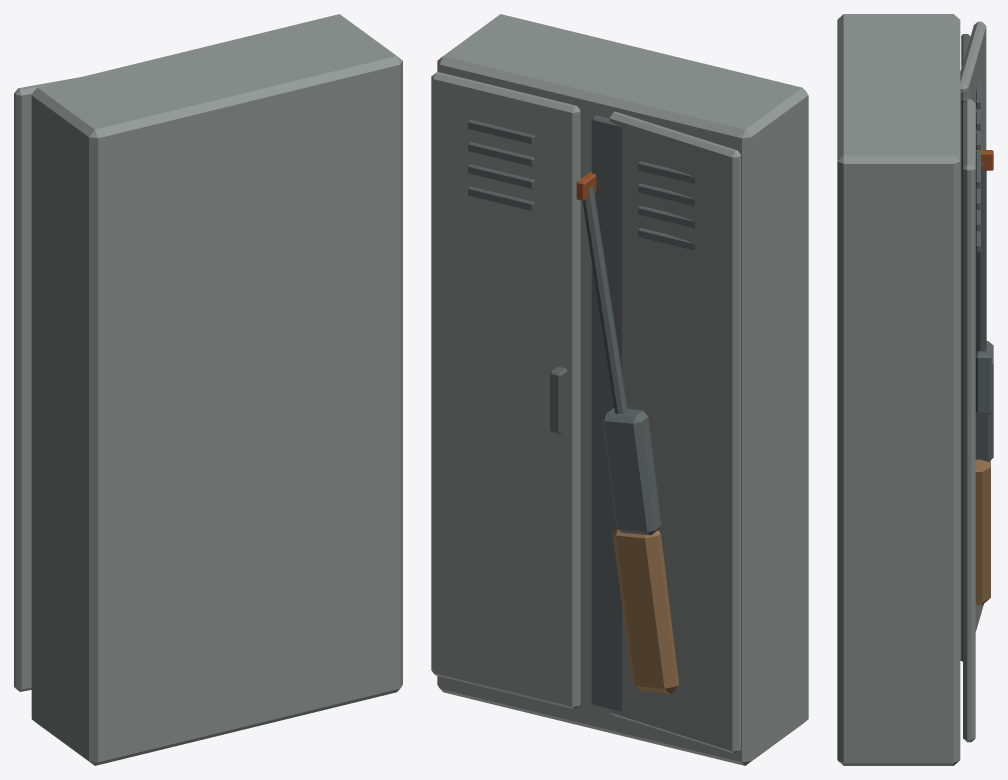
The model's file is gun_locker.glb.
3 renders of one model, left to right at view 1: azimuth 30°, elevation 25°; view 2: azimuth 150°, elevation 25°; view 3: azimuth 270°, elevation 25°, orthographic. The views are drawn at different scales.
Parts seen in each view (by area): view 1: gun_locker; view 2: gun_locker; view 3: gun_locker.
Boxes of the visible parts, left/top/right/bottom form: gun_locker: left=14, top=14, right=402, bottom=765; gun_locker: left=431, top=14, right=808, bottom=765; gun_locker: left=837, top=14, right=993, bottom=765.
Size of the model in its own units: 0.9691 by 1.86 by 0.4325.
